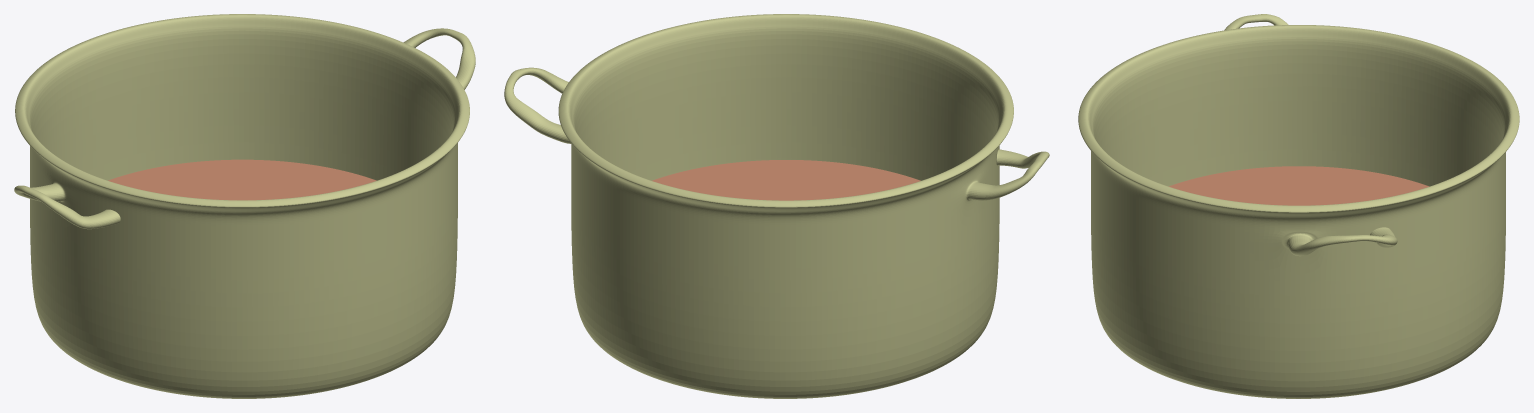
File: Pot_with_tea_Visual.fbx
The picture shows the model from 3 angles, left to right: view 1: azimuth 30°, elevation 25°; view 2: azimuth 150°, elevation 25°; view 3: azimuth 270°, elevation 25°; orthographic projection. The views are drawn at different scales.
Parts seen in each view (by area): view 1: 锅, 茶; view 2: 锅, 茶; view 3: 锅, 茶.
Boxes of the visible parts, left/top/right/bottom form: 锅: left=14, top=14, right=475, bottom=398; 茶: left=108, top=159, right=376, bottom=200; 锅: left=504, top=14, right=1049, bottom=398; 茶: left=652, top=160, right=920, bottom=200; 锅: left=1078, top=14, right=1519, bottom=398; 茶: left=1169, top=166, right=1429, bottom=205.
Bounding box in the file's own units: 78.17 × 32.88 × 63.35.
